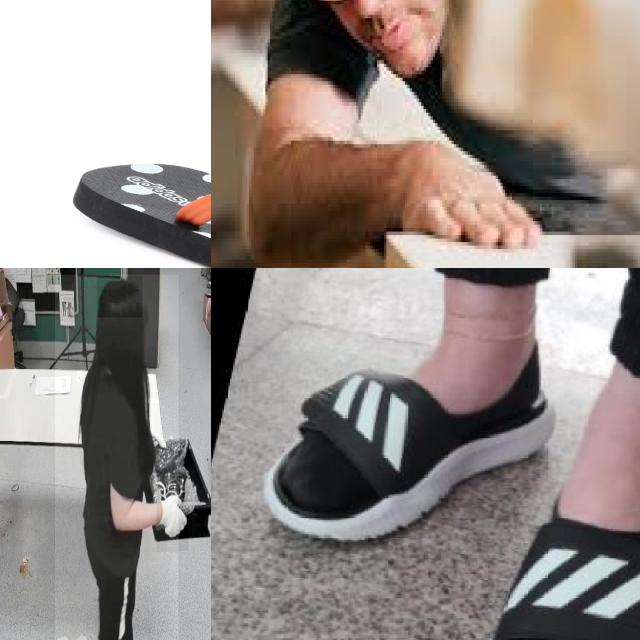Sandals: (253, 274, 554, 551), (453, 451, 640, 640), (70, 160, 211, 268)
hand_glove: (157, 487, 189, 552)
head_nohelmet: (97, 276, 143, 318)
person: (55, 274, 179, 640)
